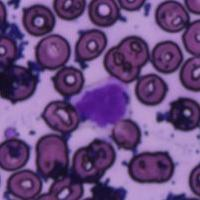M: (73, 75, 134, 130)
